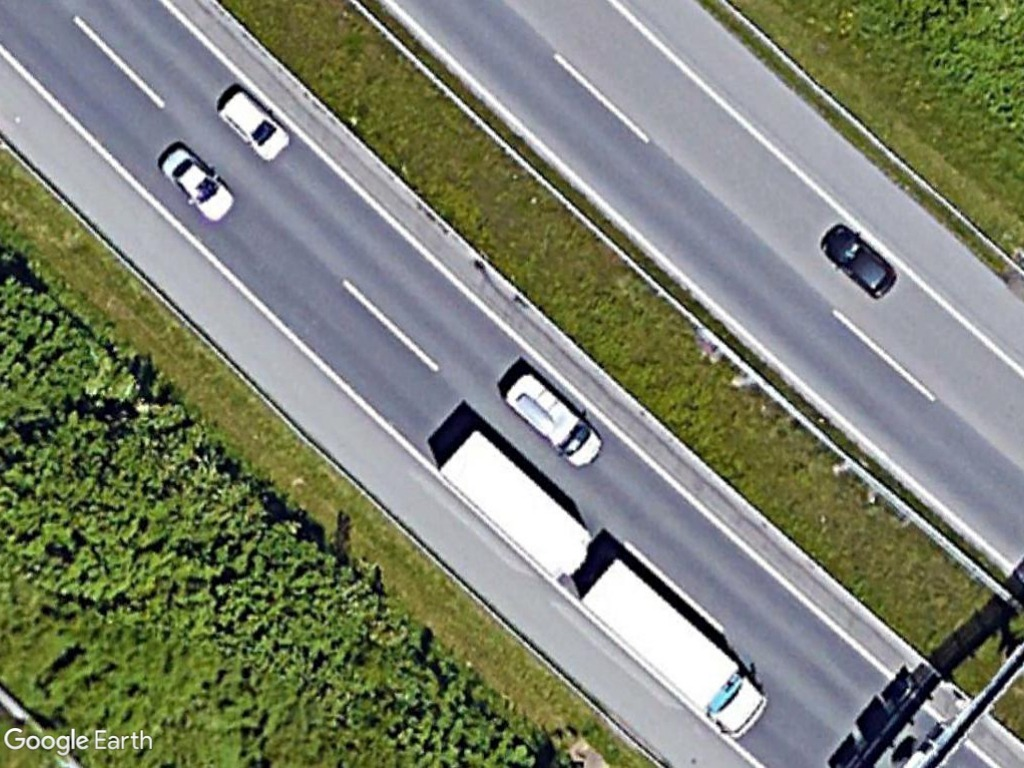car: (820, 220, 902, 301), (154, 144, 237, 224), (215, 83, 293, 165)
truck: (575, 552, 771, 748)
van: (499, 364, 606, 470)
